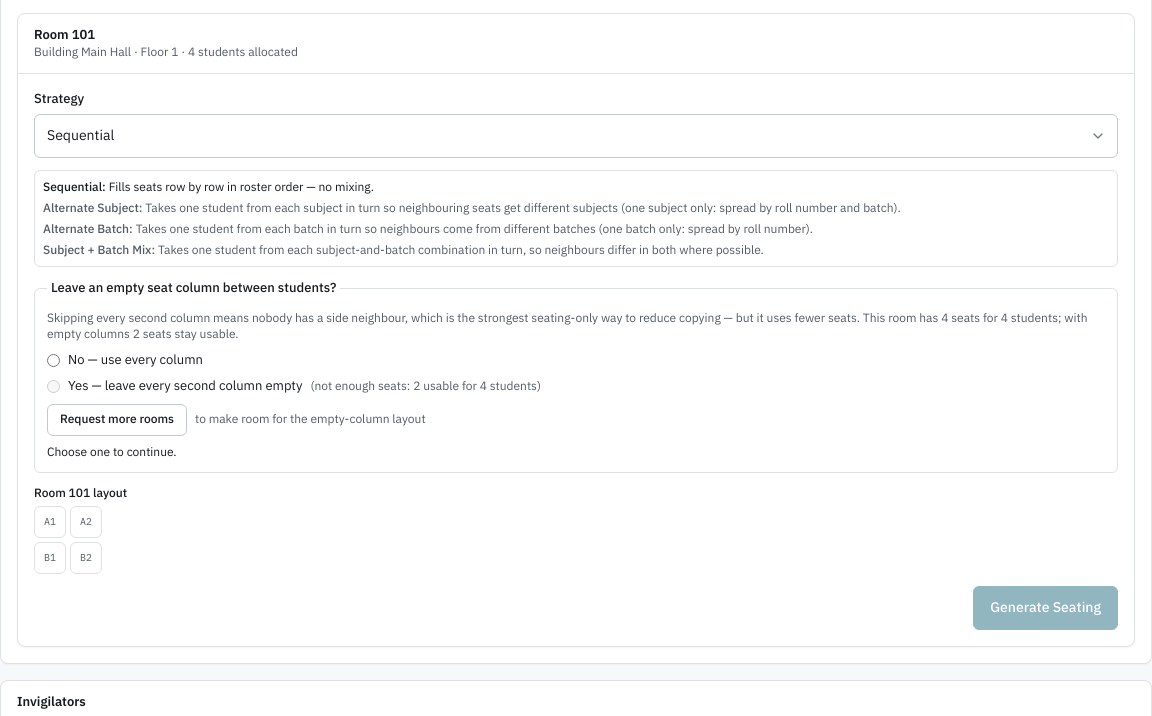
Test case: Seating generation › generates a seating plan and shows the seat map
(page scrolled)
Click the radio button labelled "No — use every column" at (54,360), box [47,354,60,367]
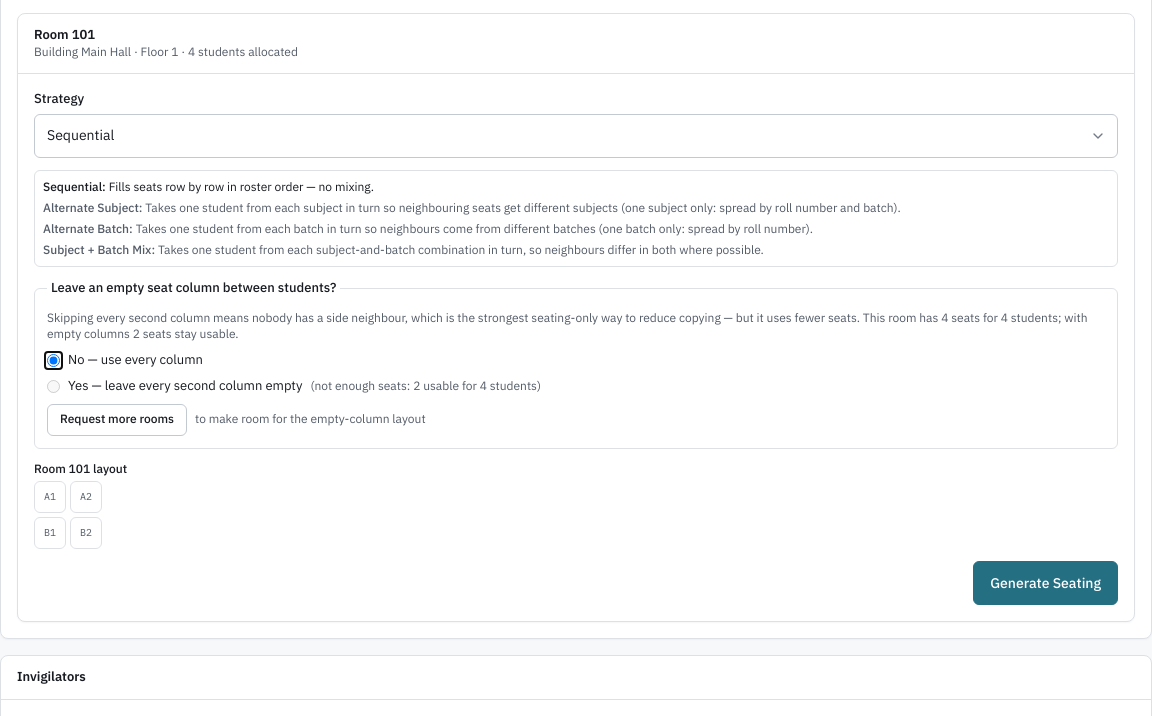
Click the button "Generate Seating" at (1046,583), box [973,561,1118,605]
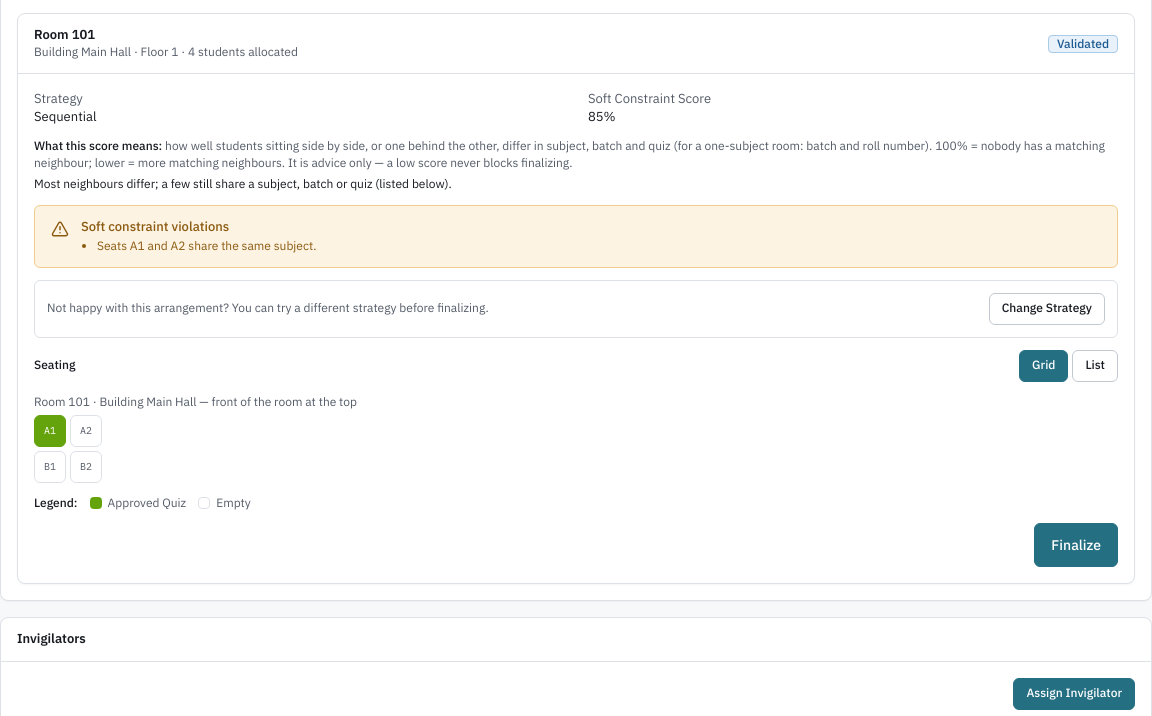
Expected: the text "Validated" is shown, [1048,34,1118,52]
Expected: the button named "seat a1, occupied by jane doe" is shown, [34,415,66,447]
